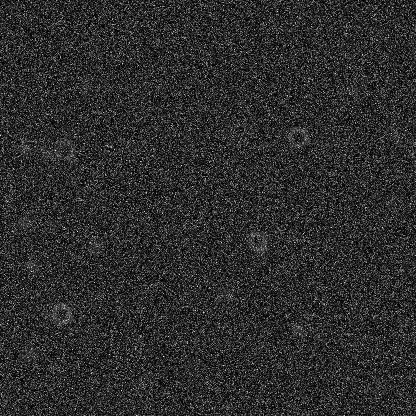Ring: (78, 72, 102, 96), (285, 125, 309, 149), (229, 118, 253, 142), (52, 137, 76, 161), (49, 301, 73, 325), (245, 229, 269, 253)
Spot: (86, 237, 102, 253), (253, 242, 269, 258), (356, 70, 372, 86), (381, 192, 397, 208), (17, 215, 33, 231), (367, 369, 383, 385), (16, 139, 32, 155), (38, 146, 54, 162), (283, 228, 299, 244), (389, 129, 405, 145), (20, 345, 36, 361), (385, 73, 401, 89), (24, 258, 40, 274), (289, 320, 305, 336), (133, 374, 149, 390), (344, 85, 360, 101), (220, 286, 236, 302), (47, 272, 63, 288)
